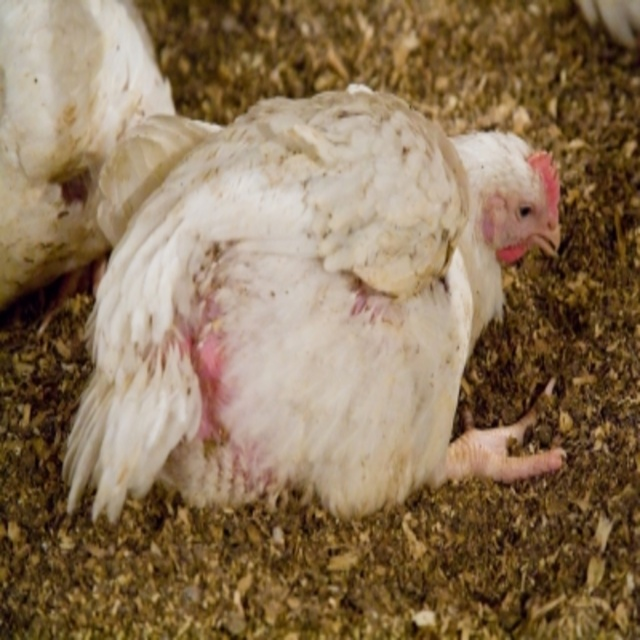Chicken: (59, 60, 579, 546)
